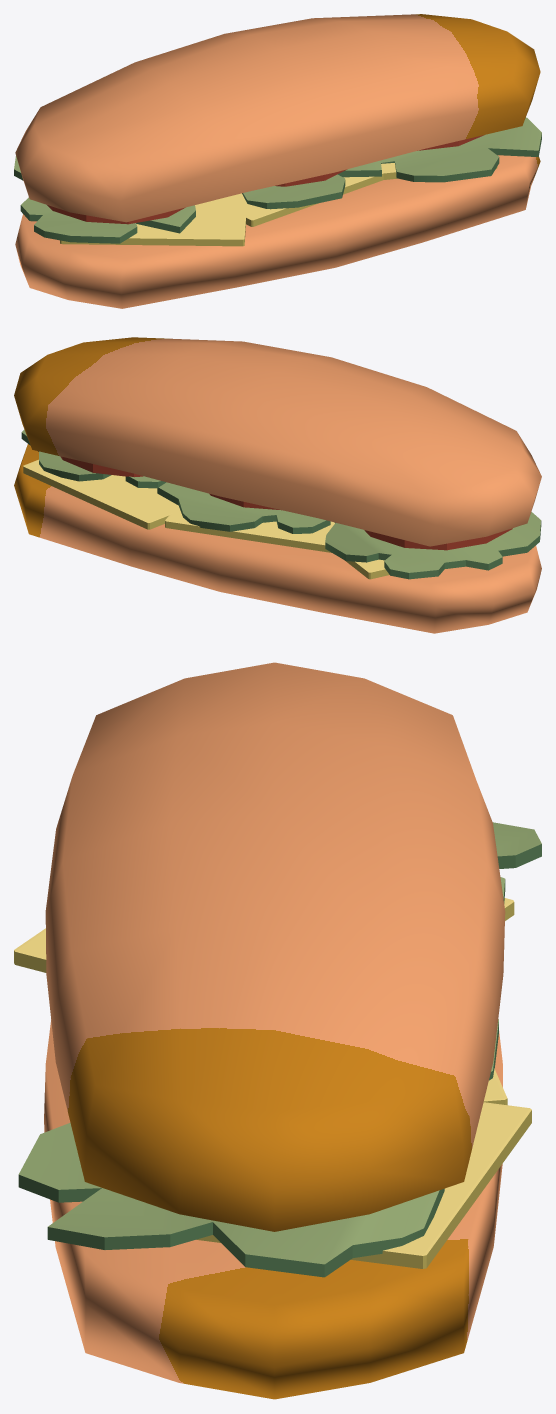
The model's file is Bocadillo 1.fbx.
3 views of the same model, one above another, from view 1: azimuth 30°, elevation 25°; view 2: azimuth 150°, elevation 25°; view 3: azimuth 270°, elevation 25° (orthographic). The views are drawn at different scales.
Visible parts, largest first — view 1: Pan_Arriba, Pan_Arriba.001, Lechuga.002, Queso, Tomate.002; view 2: Pan_Arriba, Pan_Arriba.001, Lechuga.002, Queso, Tomate.002; view 3: Pan_Arriba, Pan_Arriba.001, Lechuga.002, Queso.
Part boxes in pixels (x1,y1,x2,y2): Pan_Arriba: [15, 14, 540, 222]; Pan_Arriba.001: [15, 155, 540, 308]; Lechuga.002: [14, 117, 541, 243]; Queso: [60, 163, 497, 246]; Tomate.002: [47, 135, 484, 224]; Pan_Arriba: [14, 337, 541, 546]; Pan_Arriba.001: [14, 444, 541, 633]; Lechuga.002: [21, 429, 541, 579]; Queso: [23, 459, 389, 579]; Tomate.002: [60, 456, 512, 550]; Pan_Arriba: [45, 662, 505, 1231]; Pan_Arriba.001: [44, 1020, 502, 1399]; Lechuga.002: [18, 822, 541, 1277]; Queso: [14, 898, 531, 1268].
Bounding box in the file's own units: 40.62 × 13.59 × 18.31.
